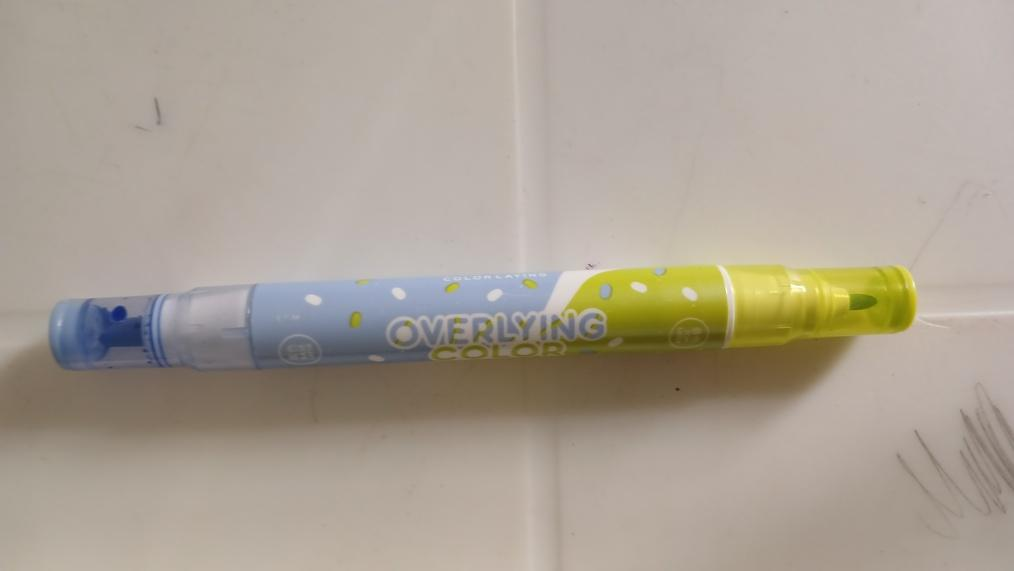Highlighter: (48, 264, 917, 370)
